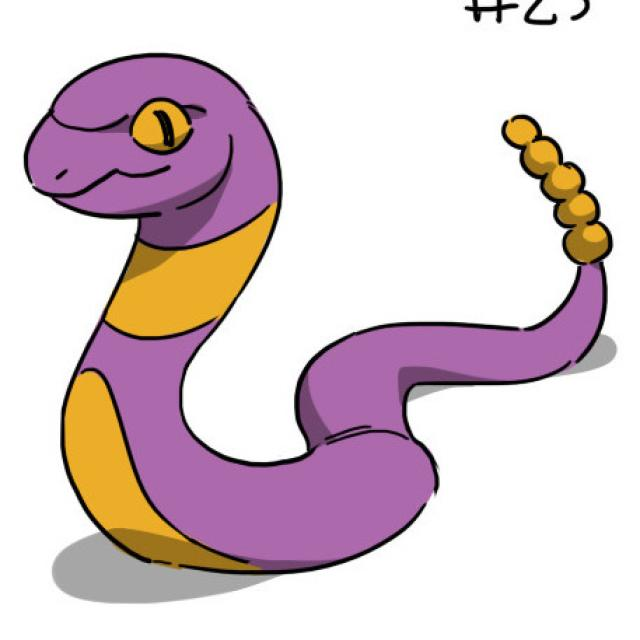Ekans: (24, 42, 606, 570)
